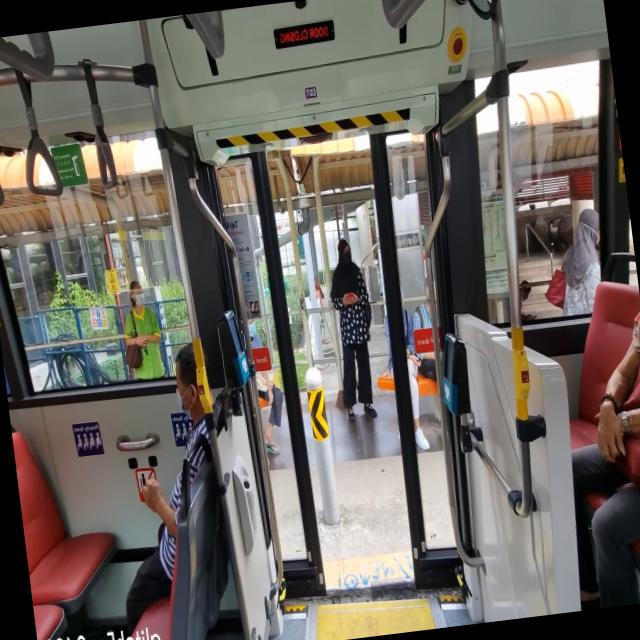bus-door: (220, 151, 326, 597), (369, 132, 459, 588), (256, 372, 268, 403), (262, 405, 270, 417)
